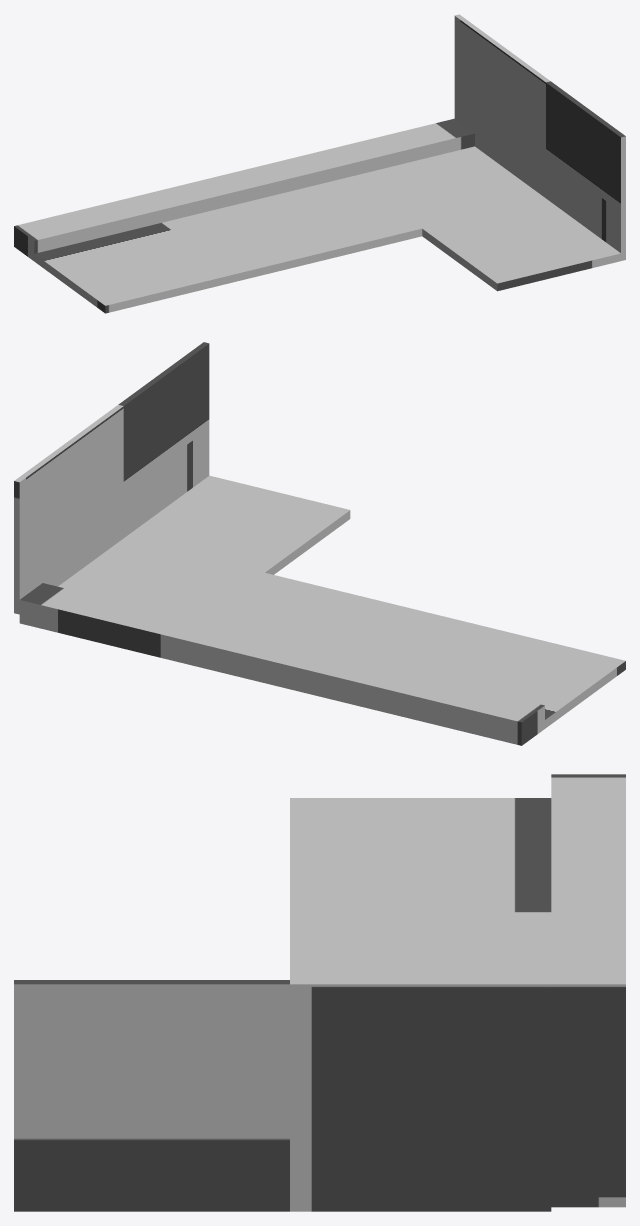
File: Table_Textured_title.fbx
The picture shows the model from 3 angles, top to bottom: view 1: azimuth 30°, elevation 25°; view 2: azimuth 150°, elevation 25°; view 3: azimuth 270°, elevation 25°; orthographic projection. The views are drawn at different scales.
Visible parts, largest first — view 1: Table; view 2: Table; view 3: Table.
Boxes of the visible parts, bbox=[...] form: Table: bbox=[14, 14, 625, 313]; Table: bbox=[14, 342, 625, 745]; Table: bbox=[14, 774, 625, 1211].
Bounding box in the file's own units: 9.05 × 2.4 × 5.86.
